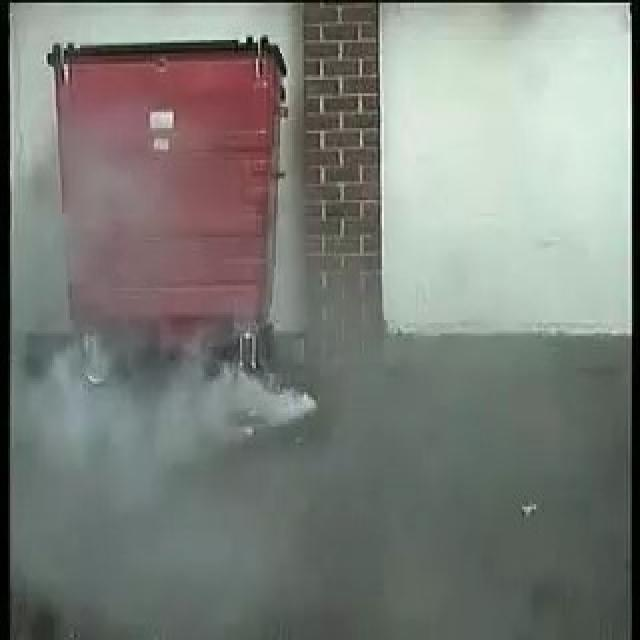Smoke: (66, 341, 310, 438)
